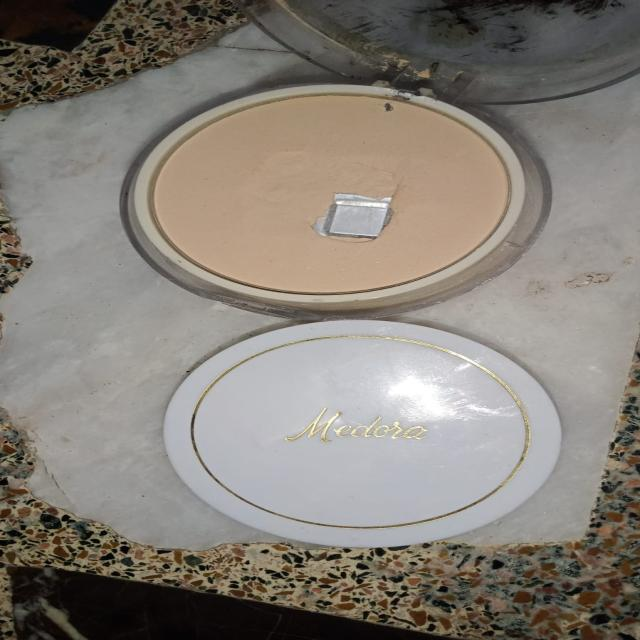powder: (137, 71, 558, 306)
